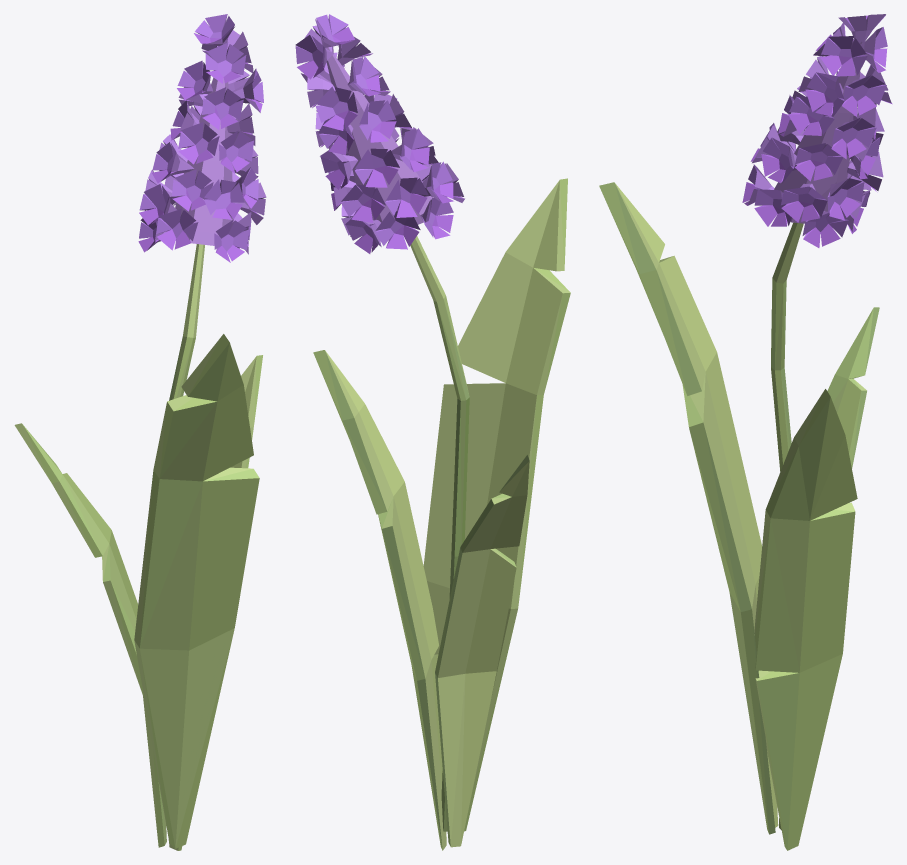
Rendered from hyacinth_04.glb.
The picture shows the model from 3 angles, left to right: view 1: azimuth 30°, elevation 25°; view 2: azimuth 150°, elevation 25°; view 3: azimuth 270°, elevation 25°; orthographic projection. The views are drawn at different scales.
Visible parts, largest first — view 1: PP_Hyacinth_04.002; view 2: PP_Hyacinth_04.002; view 3: PP_Hyacinth_04.002.
Part boxes in pixels (bbox=[...]): PP_Hyacinth_04.002: bbox=[14, 14, 266, 850]; PP_Hyacinth_04.002: bbox=[295, 14, 570, 850]; PP_Hyacinth_04.002: bbox=[599, 14, 892, 850].
Bounding box in the file's own units: 0.3518 × 1.14 × 0.3455.
